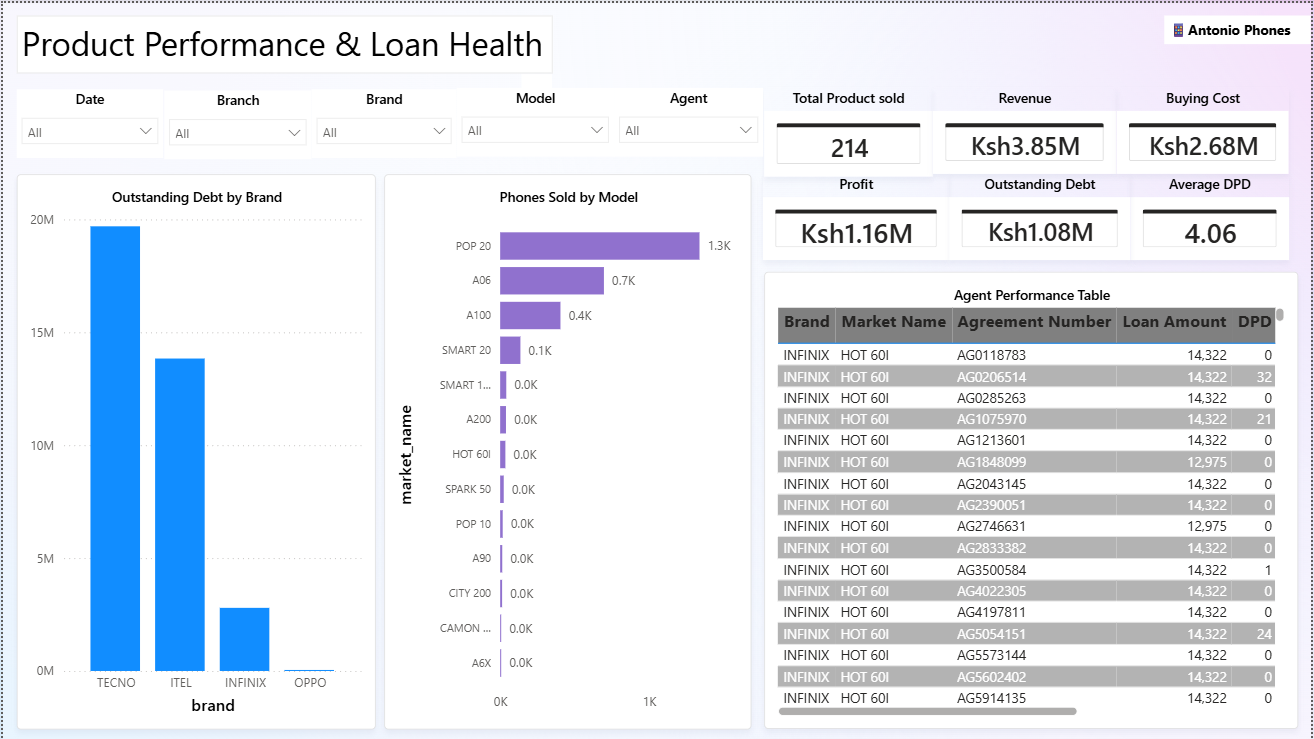

This screenshot's page, from the dashboard's own definition file:
{"tool":"powerbi","page":{"name":"Product Performance & Loan Health","canvas":[1280,720],"ordinal":3},"visuals":[{"type":"textbox","box":[13.5,12.2,524.6,56.3],"z":0},{"type":"slicer","title":"Date","fields":{"Values":["Calendar.Date"]},"box":[13.5,84.4,143.1,67.3],"z":1000},{"type":"slicer","title":"Branch","fields":{"Values":["master_loans.branch"]},"box":[157.7,85.6,144.3,67.3],"z":2000},{"type":"cardVisual","title":"Total Product sold","fields":{"Data":["KPI.Phones Sold"]},"box":[744.7,83.2,165.1,86.8],"z":3000},{"type":"cardVisual","title":"Revenue","fields":{"Data":["KPI.Revenue"]},"box":[909.8,83.2,179.8,84.4],"z":4000},{"type":"cardVisual","title":"Profit","fields":{"Data":["KPI.Profit"]},"box":[743.5,167.5,182.2,84.4],"z":5000},{"type":"clusteredBarChart","title":"Phones Sold by Model","fields":{"Category":["master_loans.market_name"],"Y":["KPI.Loans Issued"]},"box":[373,167.5,359.5,542.9],"z":6000},{"type":"tableEx","title":" Agent Performance Table","fields":{"Values":["brand_summary.brand","model_summary.market_name","master_loans.agreement_number","master_loans.loan_amount","master_loans.dpd","master_loans.shop","master_loans.agent"]},"box":[744.7,262.9,522.1,447.6],"z":7000},{"type":"textbox","box":[1136.4,12.1,143.6,27.7],"z":8000},{"type":"slicer","title":"Brand","fields":{"Values":["master_loans.brand"]},"box":[302,84.4,141.8,67.3],"z":9000},{"type":"cardVisual","title":"Average DPD","fields":{"Data":["KPI.Average DPD"]},"box":[1103,167.5,155.3,84.4],"z":10000},{"type":"clusteredColumnChart","title":"Outstanding Debt by Brand","fields":{"Y":["Sum(master_loans.loan_amount)"],"Category":["master_loans.brand"]},"box":[13.5,167.5,351,542.9],"z":11000},{"type":"slicer","title":"Agent","fields":{"Values":["master_loans.agent"]},"box":[598,83.2,145.5,67.3],"z":12000},{"type":"slicer","title":"Model","fields":{"Values":["master_loans.model"]},"box":[443.9,83.2,154.1,67.3],"z":13000},{"type":"cardVisual","title":"Buying Cost","fields":{"Data":["KPI.Buying Cost"]},"box":[1089.5,83.2,168.8,84.4],"z":14000},{"type":"cardVisual","title":"Outstanding Debt","fields":{"Data":["KPI.Outstanding Debt"]},"box":[925.7,167.5,177.3,84.4],"z":15000}]}

Visuals, with their boxes in screenshot pixels (x1, y1, x2, y2), scaled from the page's 1280x720 canvas onto the 1314x739 screenshot:
textbox: bbox(14, 13, 552, 70)
"Date" slicer: bbox(14, 87, 161, 156)
"Branch" slicer: bbox(162, 88, 310, 157)
"Total Product sold" cardVisual: bbox(764, 85, 934, 174)
"Revenue" cardVisual: bbox(934, 85, 1119, 172)
"Profit" cardVisual: bbox(763, 172, 950, 259)
"Phones Sold by Model" clusteredBarChart: bbox(383, 172, 752, 729)
" Agent Performance Table" tableEx: bbox(764, 270, 1300, 729)
textbox: bbox(1167, 12, 1313, 41)
"Brand" slicer: bbox(310, 87, 456, 156)
"Average DPD" cardVisual: bbox(1132, 172, 1292, 259)
"Outstanding Debt by Brand" clusteredColumnChart: bbox(14, 172, 374, 729)
"Agent" slicer: bbox(614, 85, 763, 154)
"Model" slicer: bbox(456, 85, 614, 154)
"Buying Cost" cardVisual: bbox(1118, 85, 1292, 172)
"Outstanding Debt" cardVisual: bbox(950, 172, 1132, 259)
